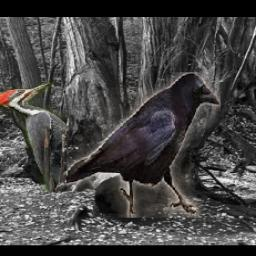Crow: (65, 73, 219, 219)
Woodpecker: (0, 83, 69, 193)
